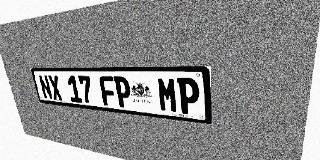1: (66, 75, 82, 103)
7: (77, 76, 95, 104)
F: (99, 76, 117, 107)
M: (157, 77, 178, 113)
N: (38, 75, 53, 100)
P: (177, 77, 200, 115), (113, 76, 132, 108)
X: (47, 75, 63, 101)
